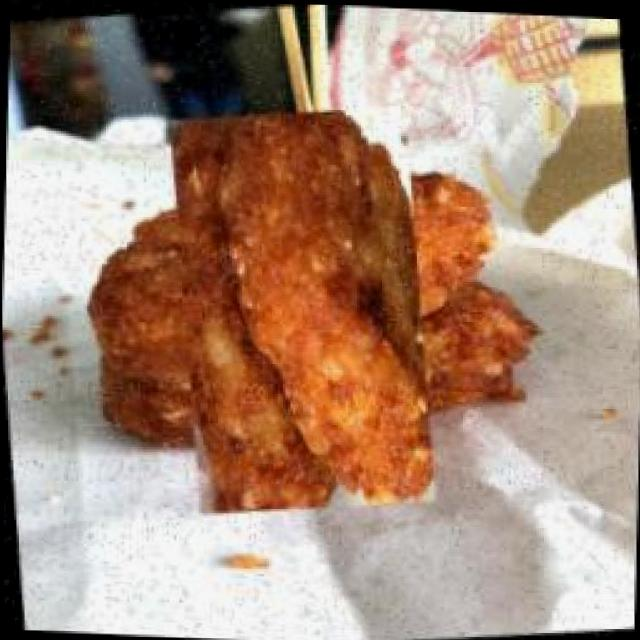triangle_hash_brown: (121, 126, 483, 491)
